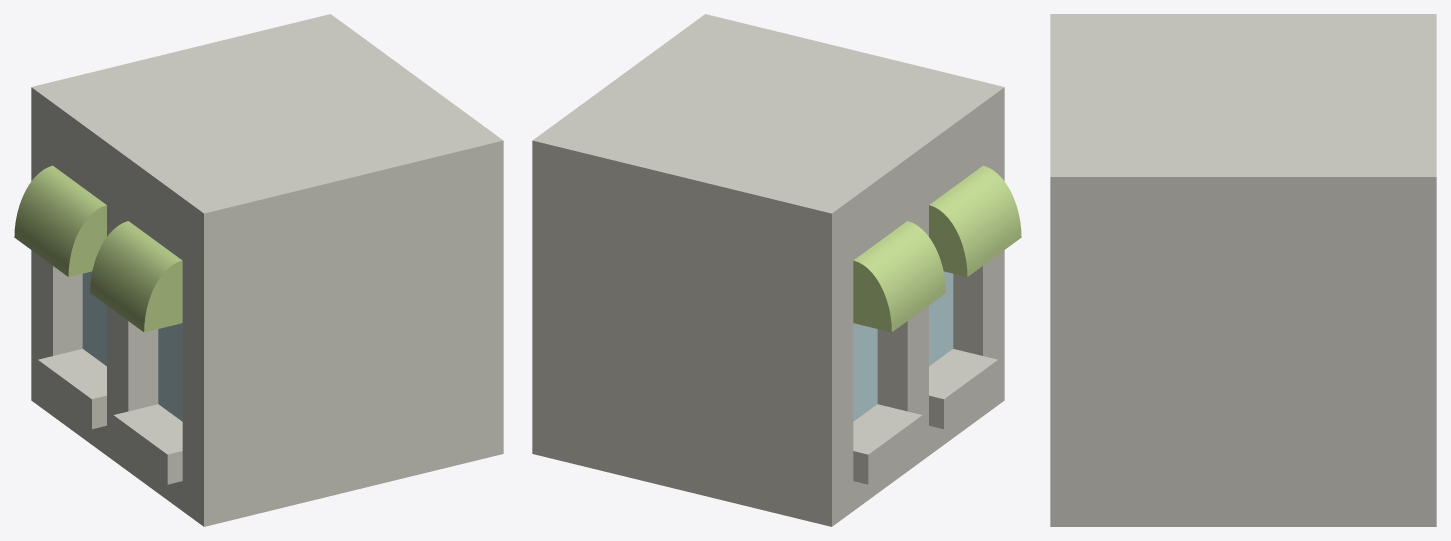
File: Building Story 11.fbx
3 renders of one model, left to right at view 1: azimuth 30°, elevation 25°; view 2: azimuth 150°, elevation 25°; view 3: azimuth 270°, elevation 25°, orthographic. The views are drawn at different scales.
Parts seen in each view (by area): view 1: Building Story 11; view 2: Building Story 11; view 3: Building Story 11.
Boxes of the visible parts, x1,y1,x2,y2 form: Building Story 11: (14, 14, 503, 526); Building Story 11: (532, 14, 1021, 526); Building Story 11: (1050, 14, 1436, 526).
Size of the model in its own units: 1.13 by 1 by 1.
